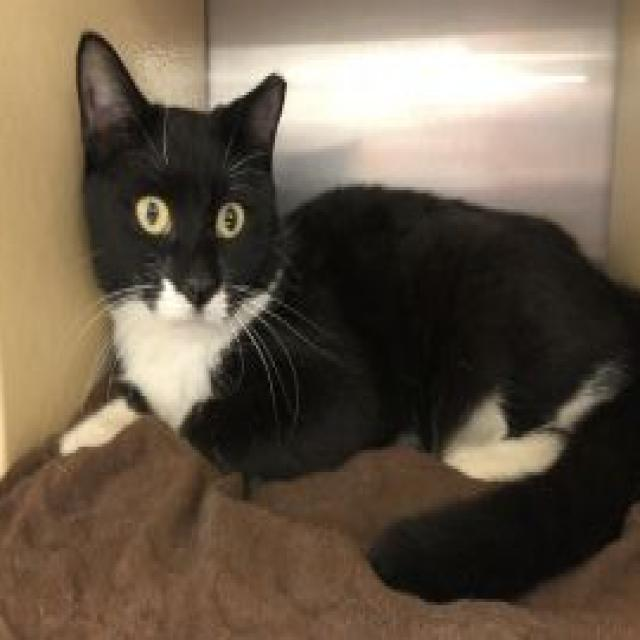Tuxedo: (59, 25, 640, 605)
